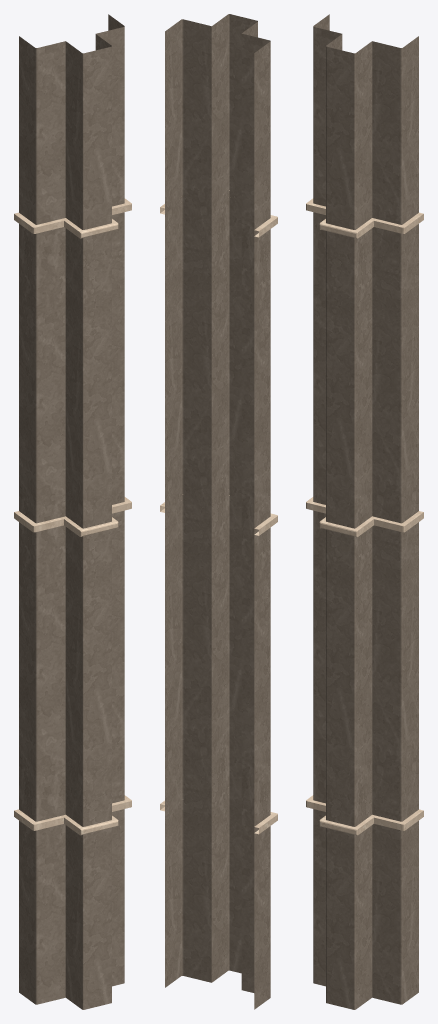
The model's file is Wall_Decoration.fbx.
The picture shows the model from 3 angles, left to right: view 1: azimuth 30°, elevation 25°; view 2: azimuth 150°, elevation 25°; view 3: azimuth 330°, elevation 25°; orthographic projection.
Visible parts, largest first — view 1: Wall_Dec.001; view 2: Wall_Dec.001; view 3: Wall_Dec.001.
Part boxes in pixels (left/top/right/bottom): Wall_Dec.001: left=14, top=14, right=131, bottom=1009; Wall_Dec.001: left=160, top=14, right=277, bottom=1009; Wall_Dec.001: left=306, top=14, right=423, bottom=1009.
Bounding box in the file's own units: 40.97 × 379 × 26.1.
